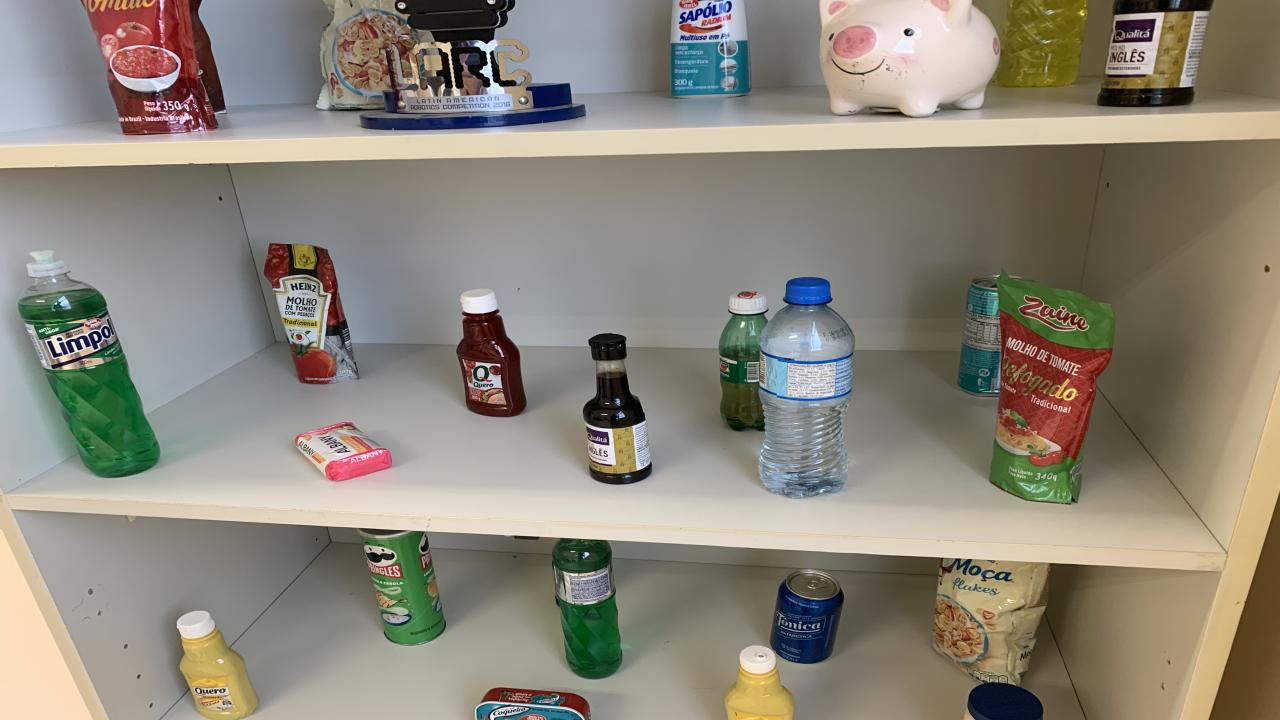Cleaner-Cleanup_Items: (670, 0, 750, 98)
Detergent-Cleanup_Items: (18, 249, 160, 478), (552, 538, 622, 679), (998, 0, 1088, 86)
English_Sauce-Pantry_Items: (1098, 0, 1212, 107), (582, 334, 652, 484)
Flakes-Snacks: (932, 559, 1050, 686), (318, 0, 415, 109)
Guarana-Drinks: (718, 291, 768, 431)
Ketchup-Pantry_Items: (458, 289, 525, 416)
Mayonnaise-Pantry_Items: (968, 682, 1042, 720)
Mustard-Pantry_Items: (178, 609, 258, 720), (725, 645, 795, 720)
Pig_Safe-Miscellaneous: (820, 0, 1000, 116)
Pringles-Snacks: (358, 529, 445, 645)
Soap-Cleanup_Items: (295, 422, 392, 482)
Tea-Drinks: (958, 276, 1002, 396)
Tomato_Sauce-Pantry_Items: (990, 272, 1115, 502), (82, 0, 218, 135), (262, 244, 358, 384)
Tonic-Drinks: (770, 570, 842, 664)
Tuna_Can-Pantry_Items: (475, 688, 590, 720)
Water_Bottle-Drinks: (760, 278, 855, 497)
